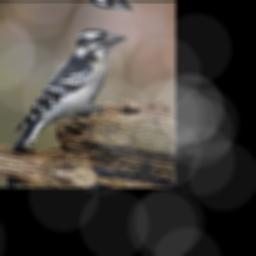Woodpecker: (10, 17, 129, 170)
